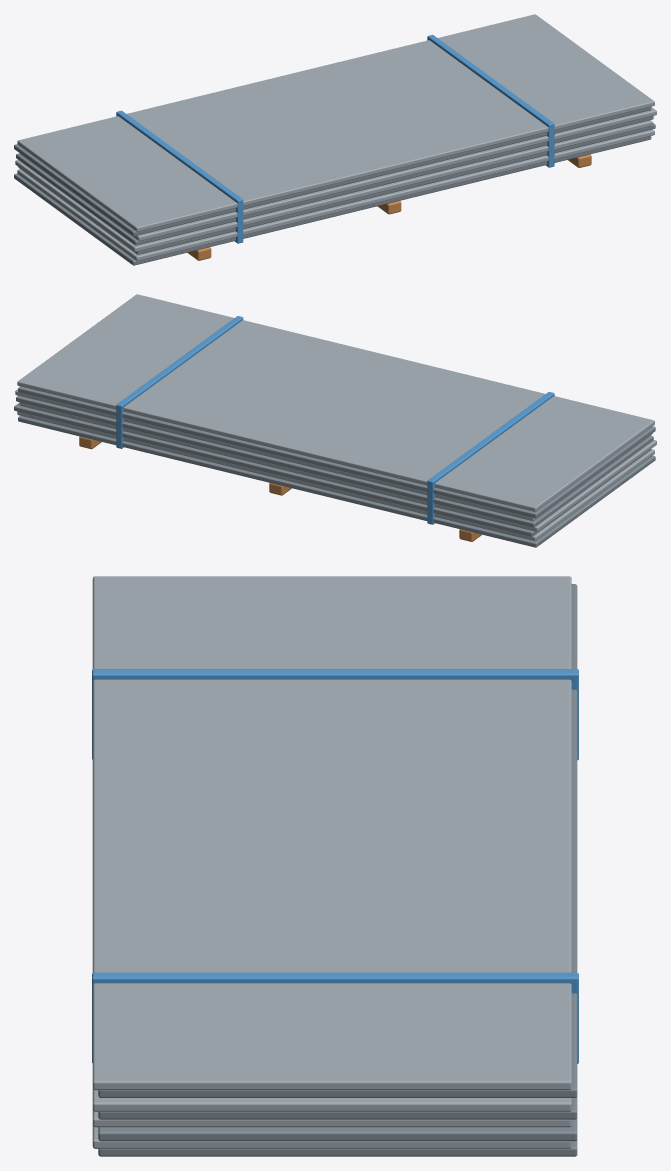
The model's file is pilha_chapas.glb.
The picture shows the model from 3 angles, top to bottom: view 1: azimuth 30°, elevation 25°; view 2: azimuth 150°, elevation 25°; view 3: azimuth 270°, elevation 25°; orthographic projection. The views are drawn at different scales.
Parts seen in each view (by area): view 1: chapa (×8), cinta (×2); view 2: chapa (×8), cinta (×2); view 3: chapa (×8), cinta (×2).
Boxes of the visible parts, x1,y1,x2,y2 form: chapa (×8): (14, 14, 656, 265); cinta (×2): (116, 34, 554, 243); chapa (×8): (14, 294, 656, 547); cinta (×2): (116, 316, 554, 524); chapa (×8): (92, 576, 577, 1156); cinta (×2): (92, 669, 578, 1063).
Bounding box in the file's own units: 3.02 × 0.29 × 1.22.
